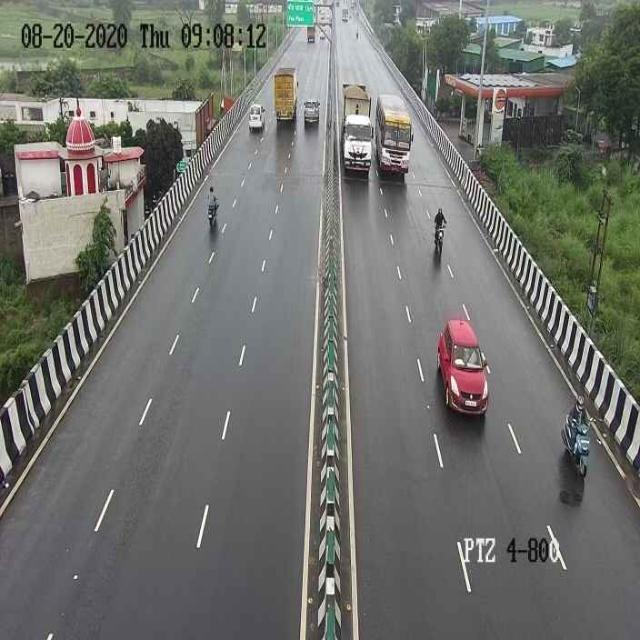car: (430, 310, 495, 422), (298, 93, 324, 129), (245, 99, 266, 134)
